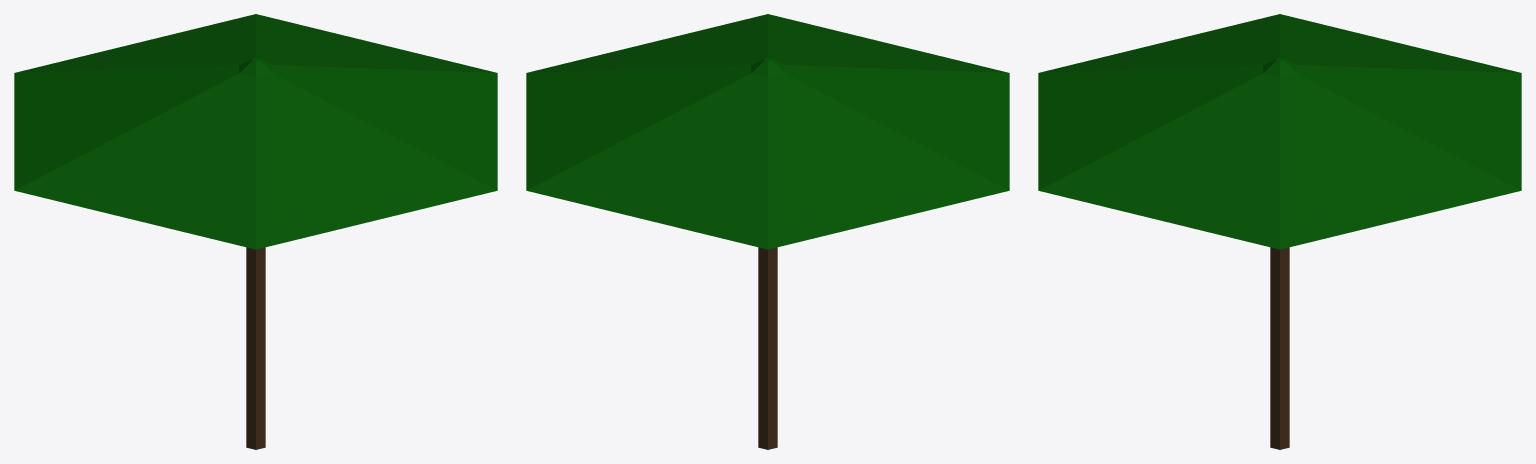
Rendered from Model_Parasol1.fbx.
3 views of the same model, side by side, from view 1: azimuth 30°, elevation 25°; view 2: azimuth 150°, elevation 25°; view 3: azimuth 270°, elevation 25° (orthographic).
Visible parts, largest first — view 1: Cube.004; view 2: Cube.004; view 3: Cube.004.
Boxes of the visible parts, <box> form: Cube.004: <box>14,14,497,449</box>; Cube.004: <box>526,14,1009,449</box>; Cube.004: <box>1038,14,1521,449</box>.
Size of the model in its own units: 385 by 339 by 445.
